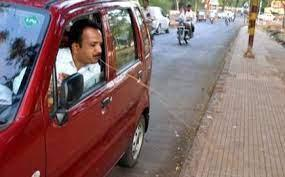spitting: (56, 16, 211, 150)
